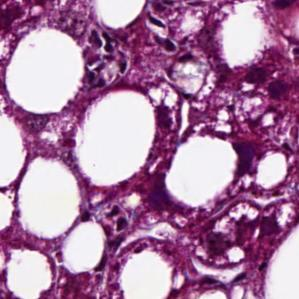inflammation: (245, 62, 290, 112), (255, 206, 289, 239)
